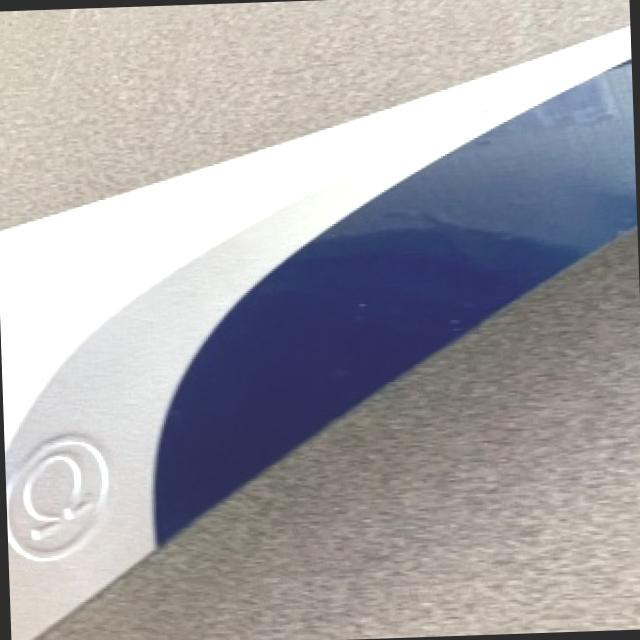healthy: (37, 230, 640, 640)
